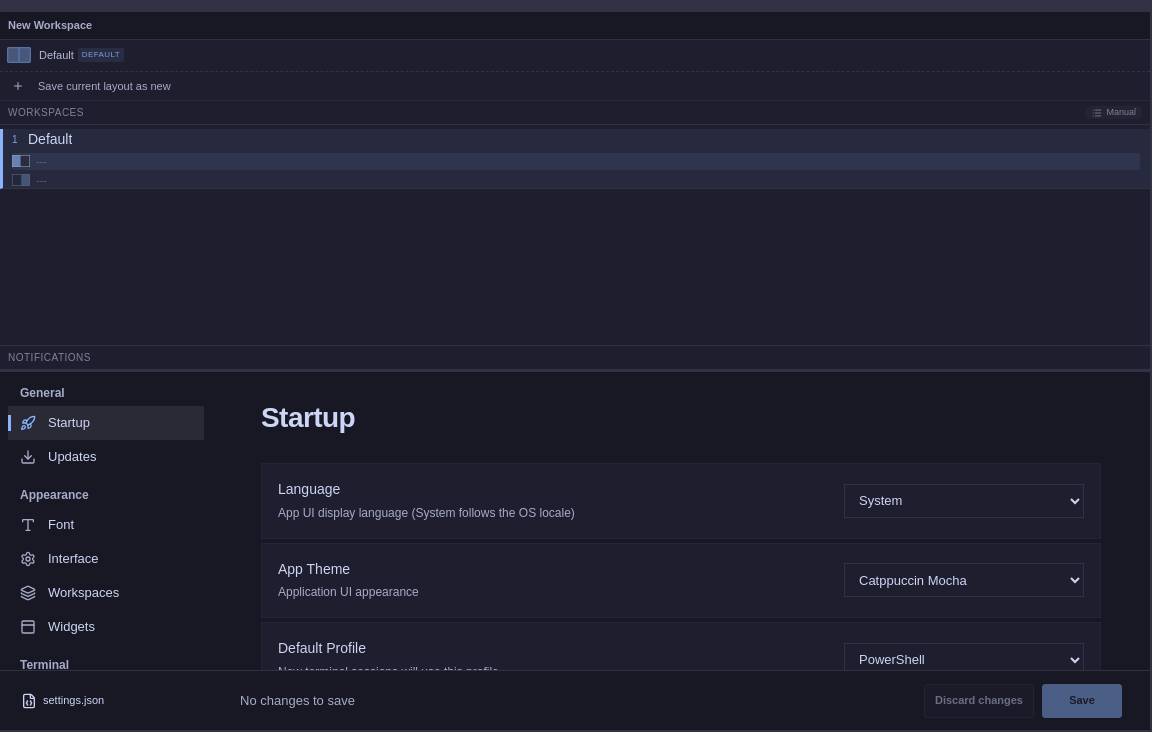
Scenario: Dock › shows full control bar (split H, split V, clear, delete) on split pane hover
Hover over the element with test id "dock-pane-dp-1" at (576,192), box 0,12 -> 1151,372
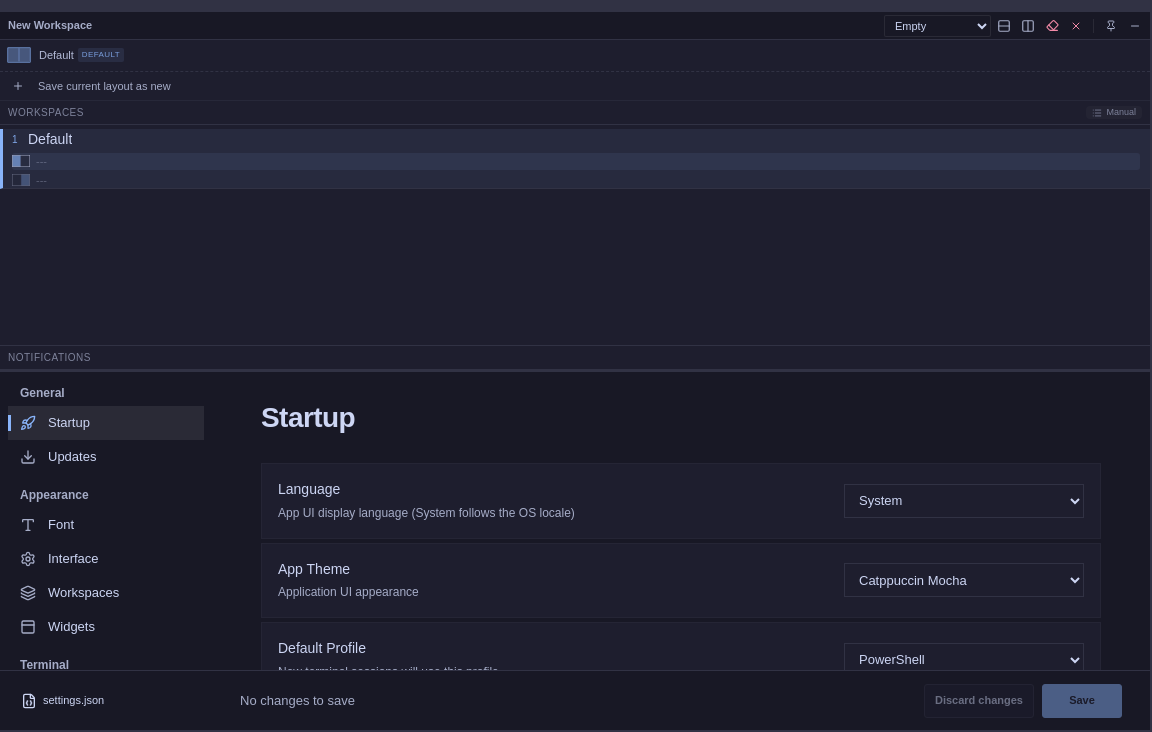
Expected: the button with test id "pane-control-split-h" is shown, 993,14 -> 1015,36
Expected: the button with test id "pane-control-split-v" is shown, 1017,14 -> 1039,36
Expected: the button with test id "pane-control-clear" is shown, 1041,14 -> 1063,36
